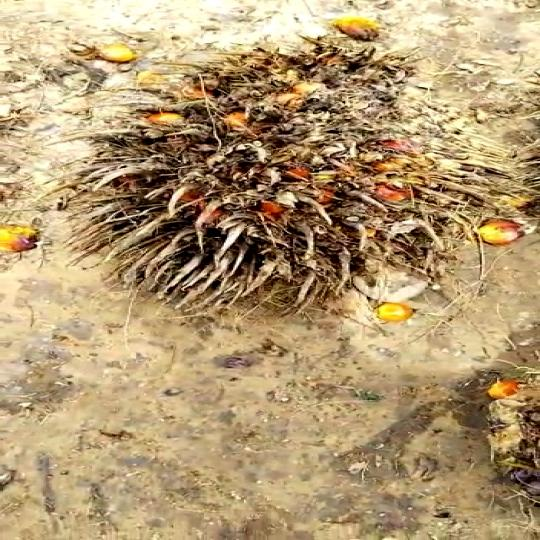terlalu masak: (47, 19, 540, 337)
